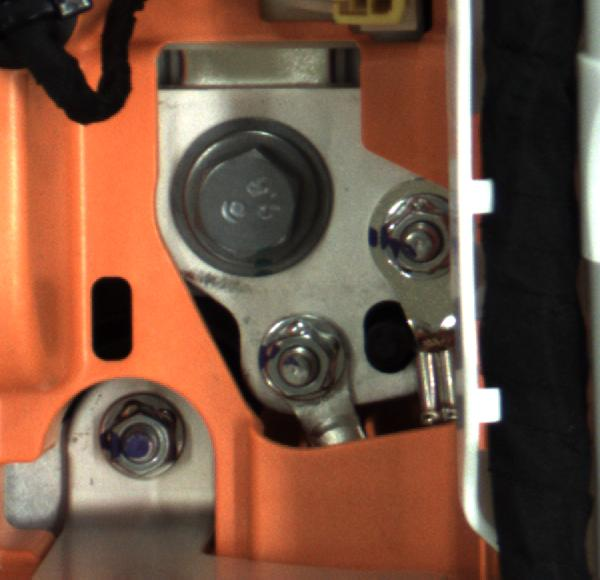nut_b: (166, 125, 342, 271)
screw_s: (248, 301, 361, 408), (97, 383, 199, 478), (367, 191, 457, 273)
